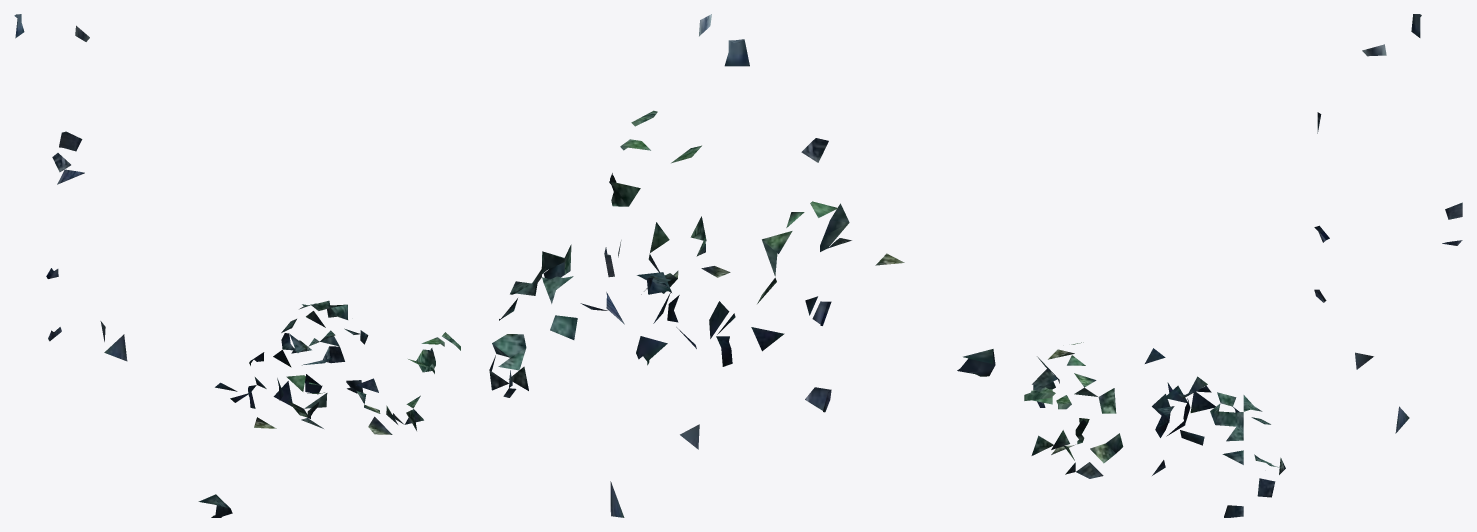
3 views of the same model, side by side, from view 1: azimuth 30°, elevation 25°; view 2: azimuth 150°, elevation 25°; view 3: azimuth 270°, elevation 25° (orthographic). The views are drawn at different scales.
Visible parts, largest first — view 1: 30436272704361624705_1; view 2: 30436272704361624705_1; view 3: 30436272704361624705_1.
Part boxes in pixels (x1,y1,x2,y2): 30436272704361624705_1: (14,14,460,517); 30436272704361624705_1: (489,14,995,517); 30436272704361624705_1: (1024,14,1462,517).
Size of the model in its own units: 27.3 by 36.37 by 38.26.
1 material, 1 textured.
